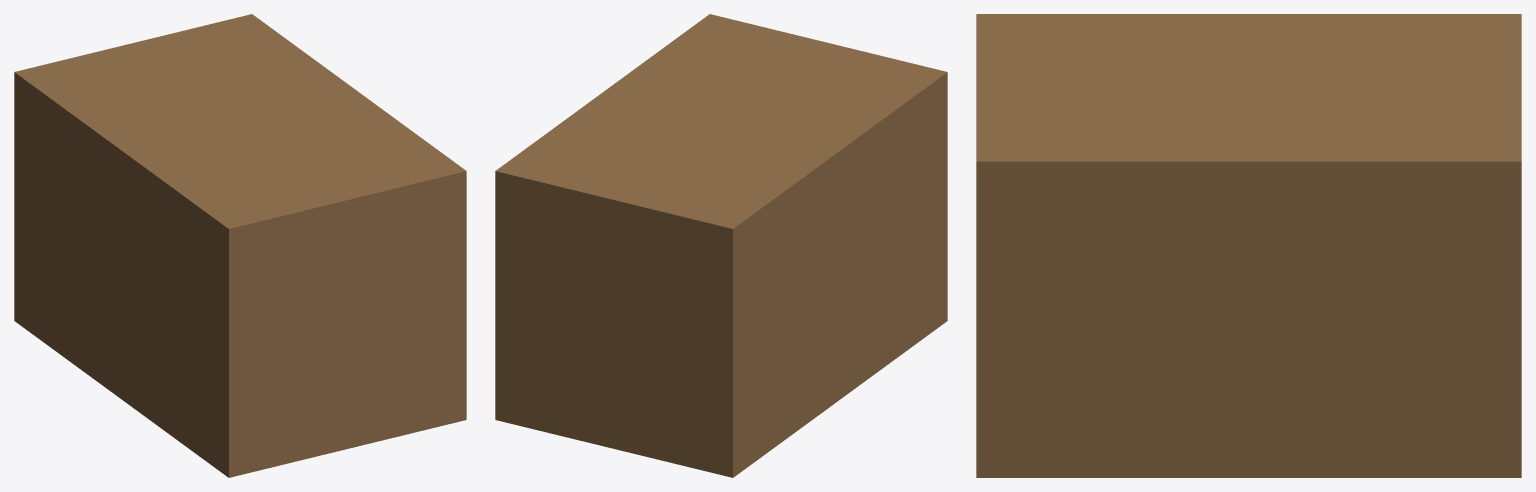
The model's file is platform_centermiddle.glb.
3 renders of one model, left to right at view 1: azimuth 30°, elevation 25°; view 2: azimuth 150°, elevation 25°; view 3: azimuth 270°, elevation 25°, orthographic. The views are drawn at different scales.
Visible parts, largest first — view 1: Platform_CenterMiddle; view 2: Platform_CenterMiddle; view 3: Platform_CenterMiddle.
Part boxes in pixels (x1,y1,x2,y2): Platform_CenterMiddle: (14, 14, 466, 477); Platform_CenterMiddle: (495, 14, 947, 477); Platform_CenterMiddle: (976, 14, 1521, 477).
Bounding box in the file's own units: 2 × 2 × 3.13.
